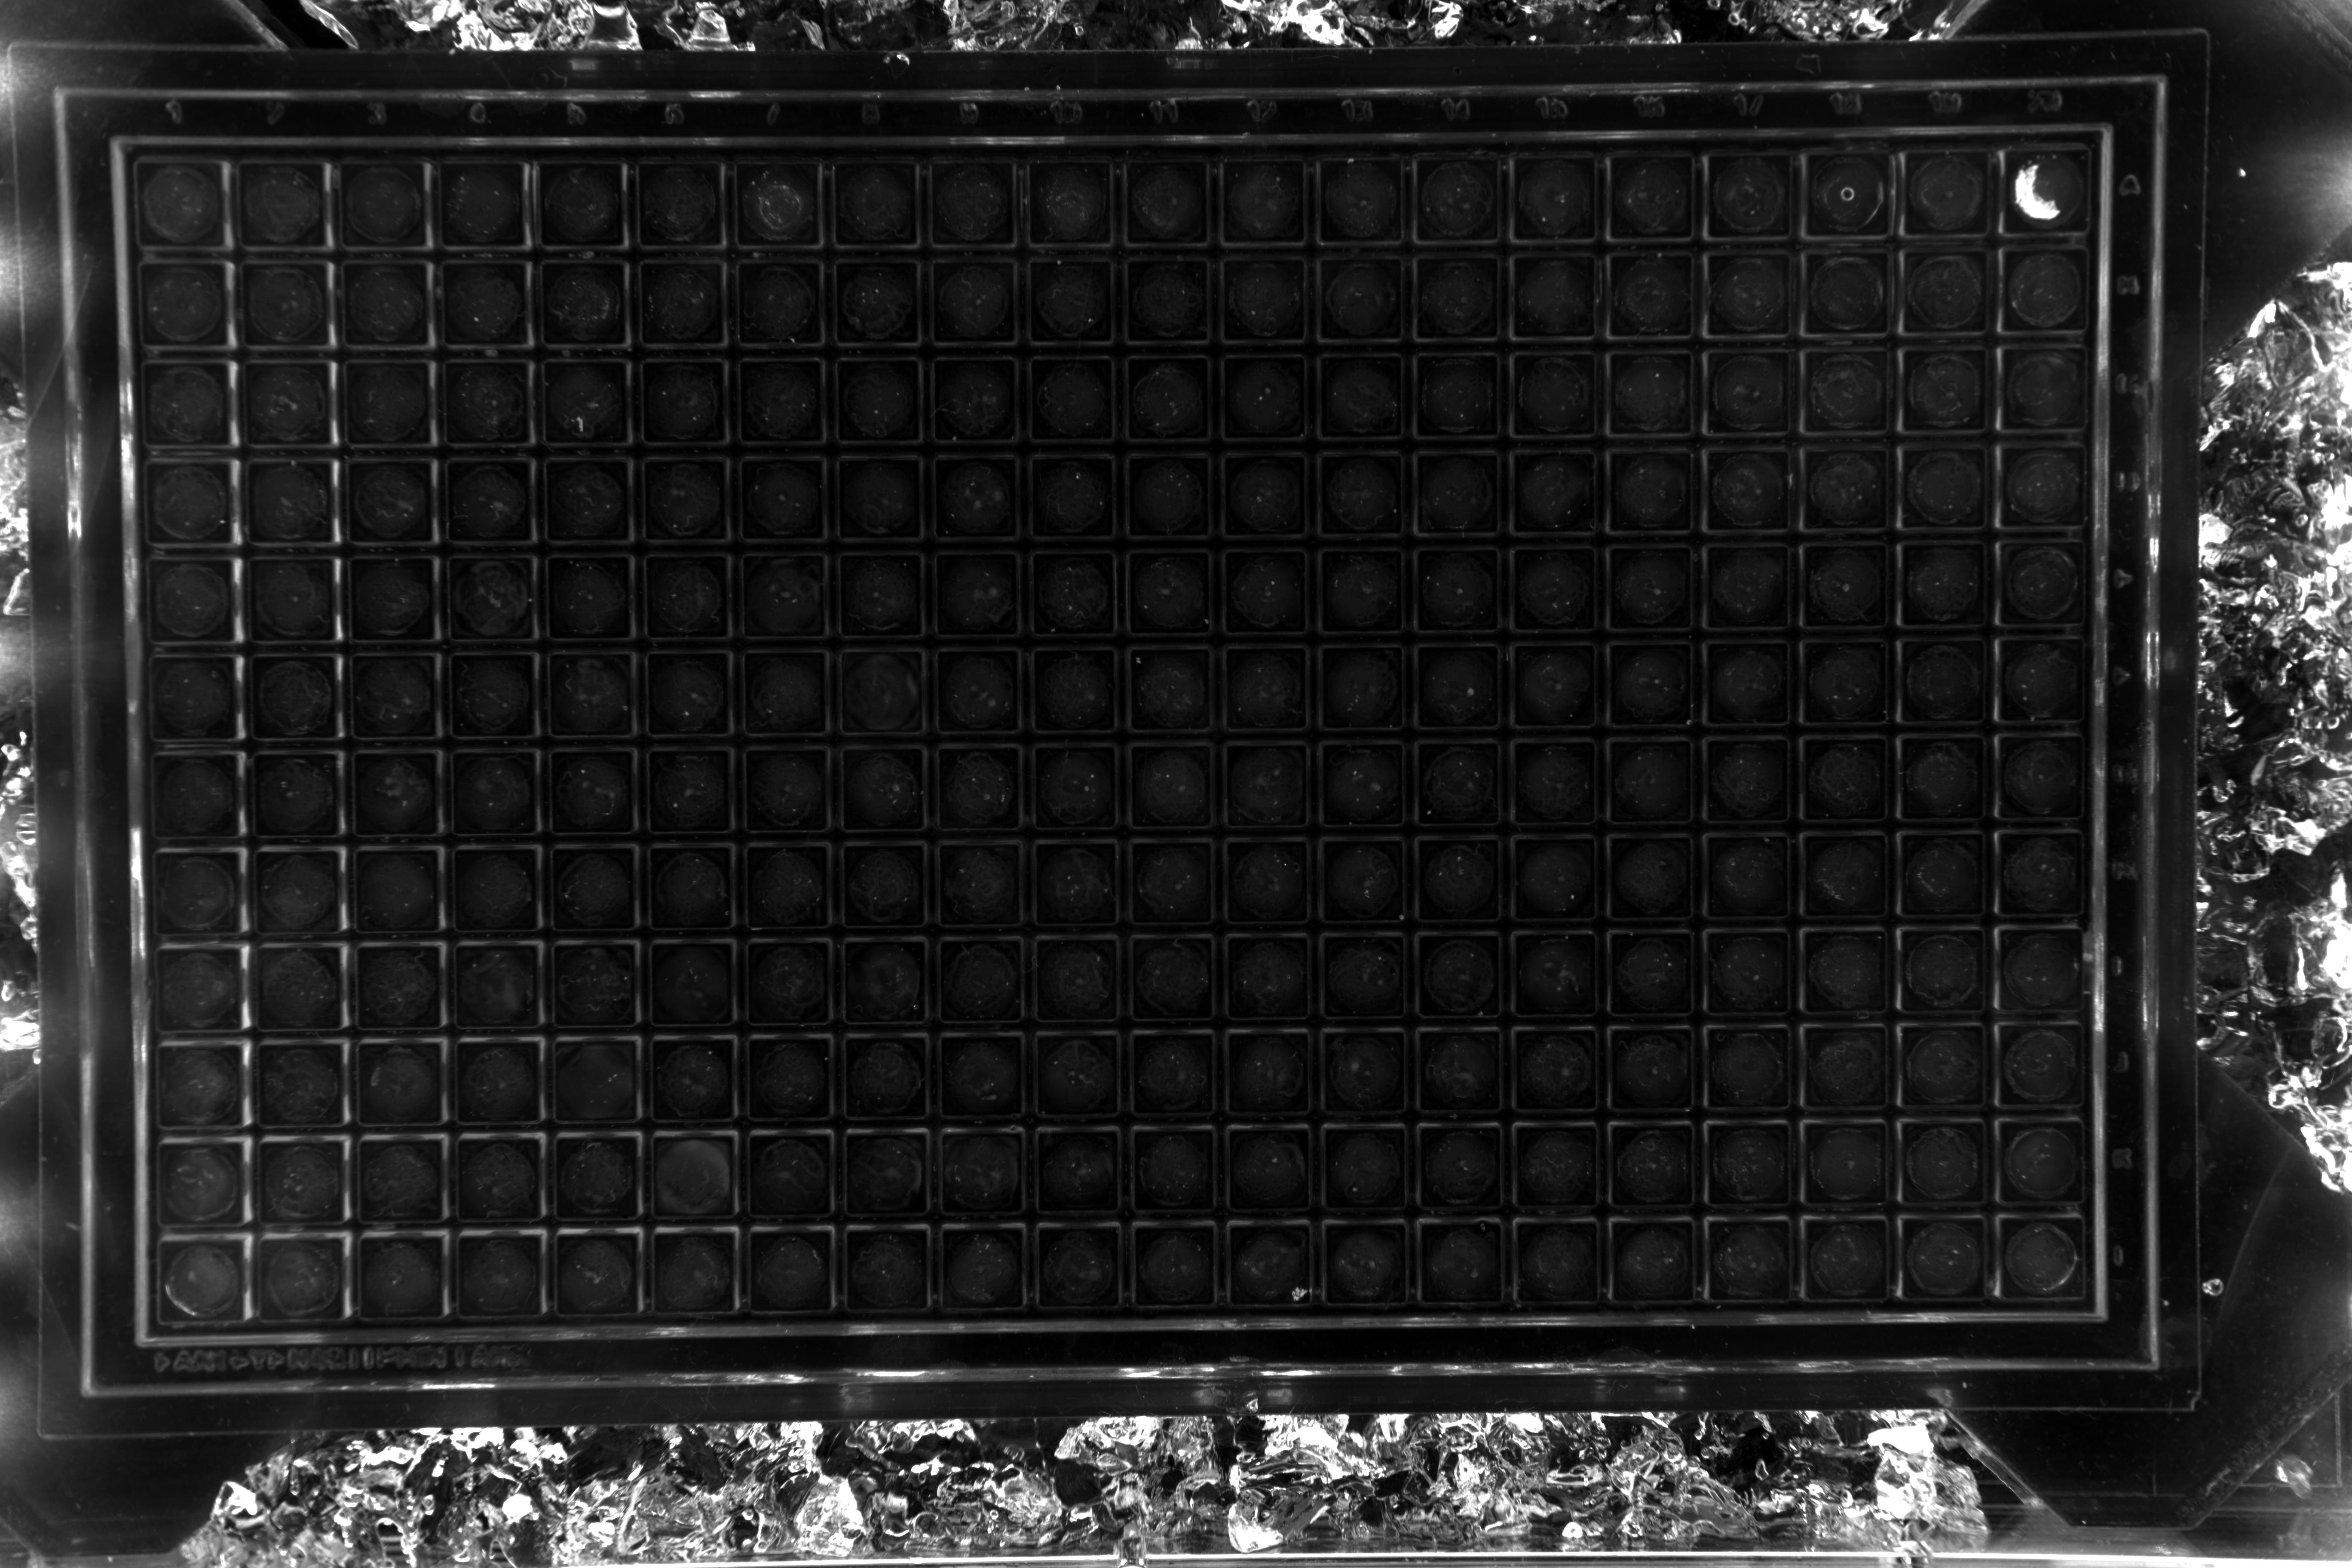WM_well: (297, 535, 387, 623), (688, 436, 777, 523), (205, 926, 292, 1013), (303, 1022, 390, 1109), (390, 238, 478, 325), (486, 140, 574, 227), (693, 826, 780, 913), (787, 534, 875, 621), (789, 728, 877, 815), (980, 241, 1067, 329), (983, 630, 1071, 717), (983, 1017, 1071, 1104), (1078, 241, 1165, 329), (1176, 726, 1263, 814), (1176, 822, 1263, 910), (1368, 1017, 1456, 1104), (1372, 336, 1459, 423), (1465, 1211, 1552, 1298), (1470, 236, 1557, 324), (1566, 530, 1654, 618), (1662, 726, 1750, 814), (1762, 528, 1850, 616), (1860, 724, 1948, 812), (2060, 525, 2147, 612)
